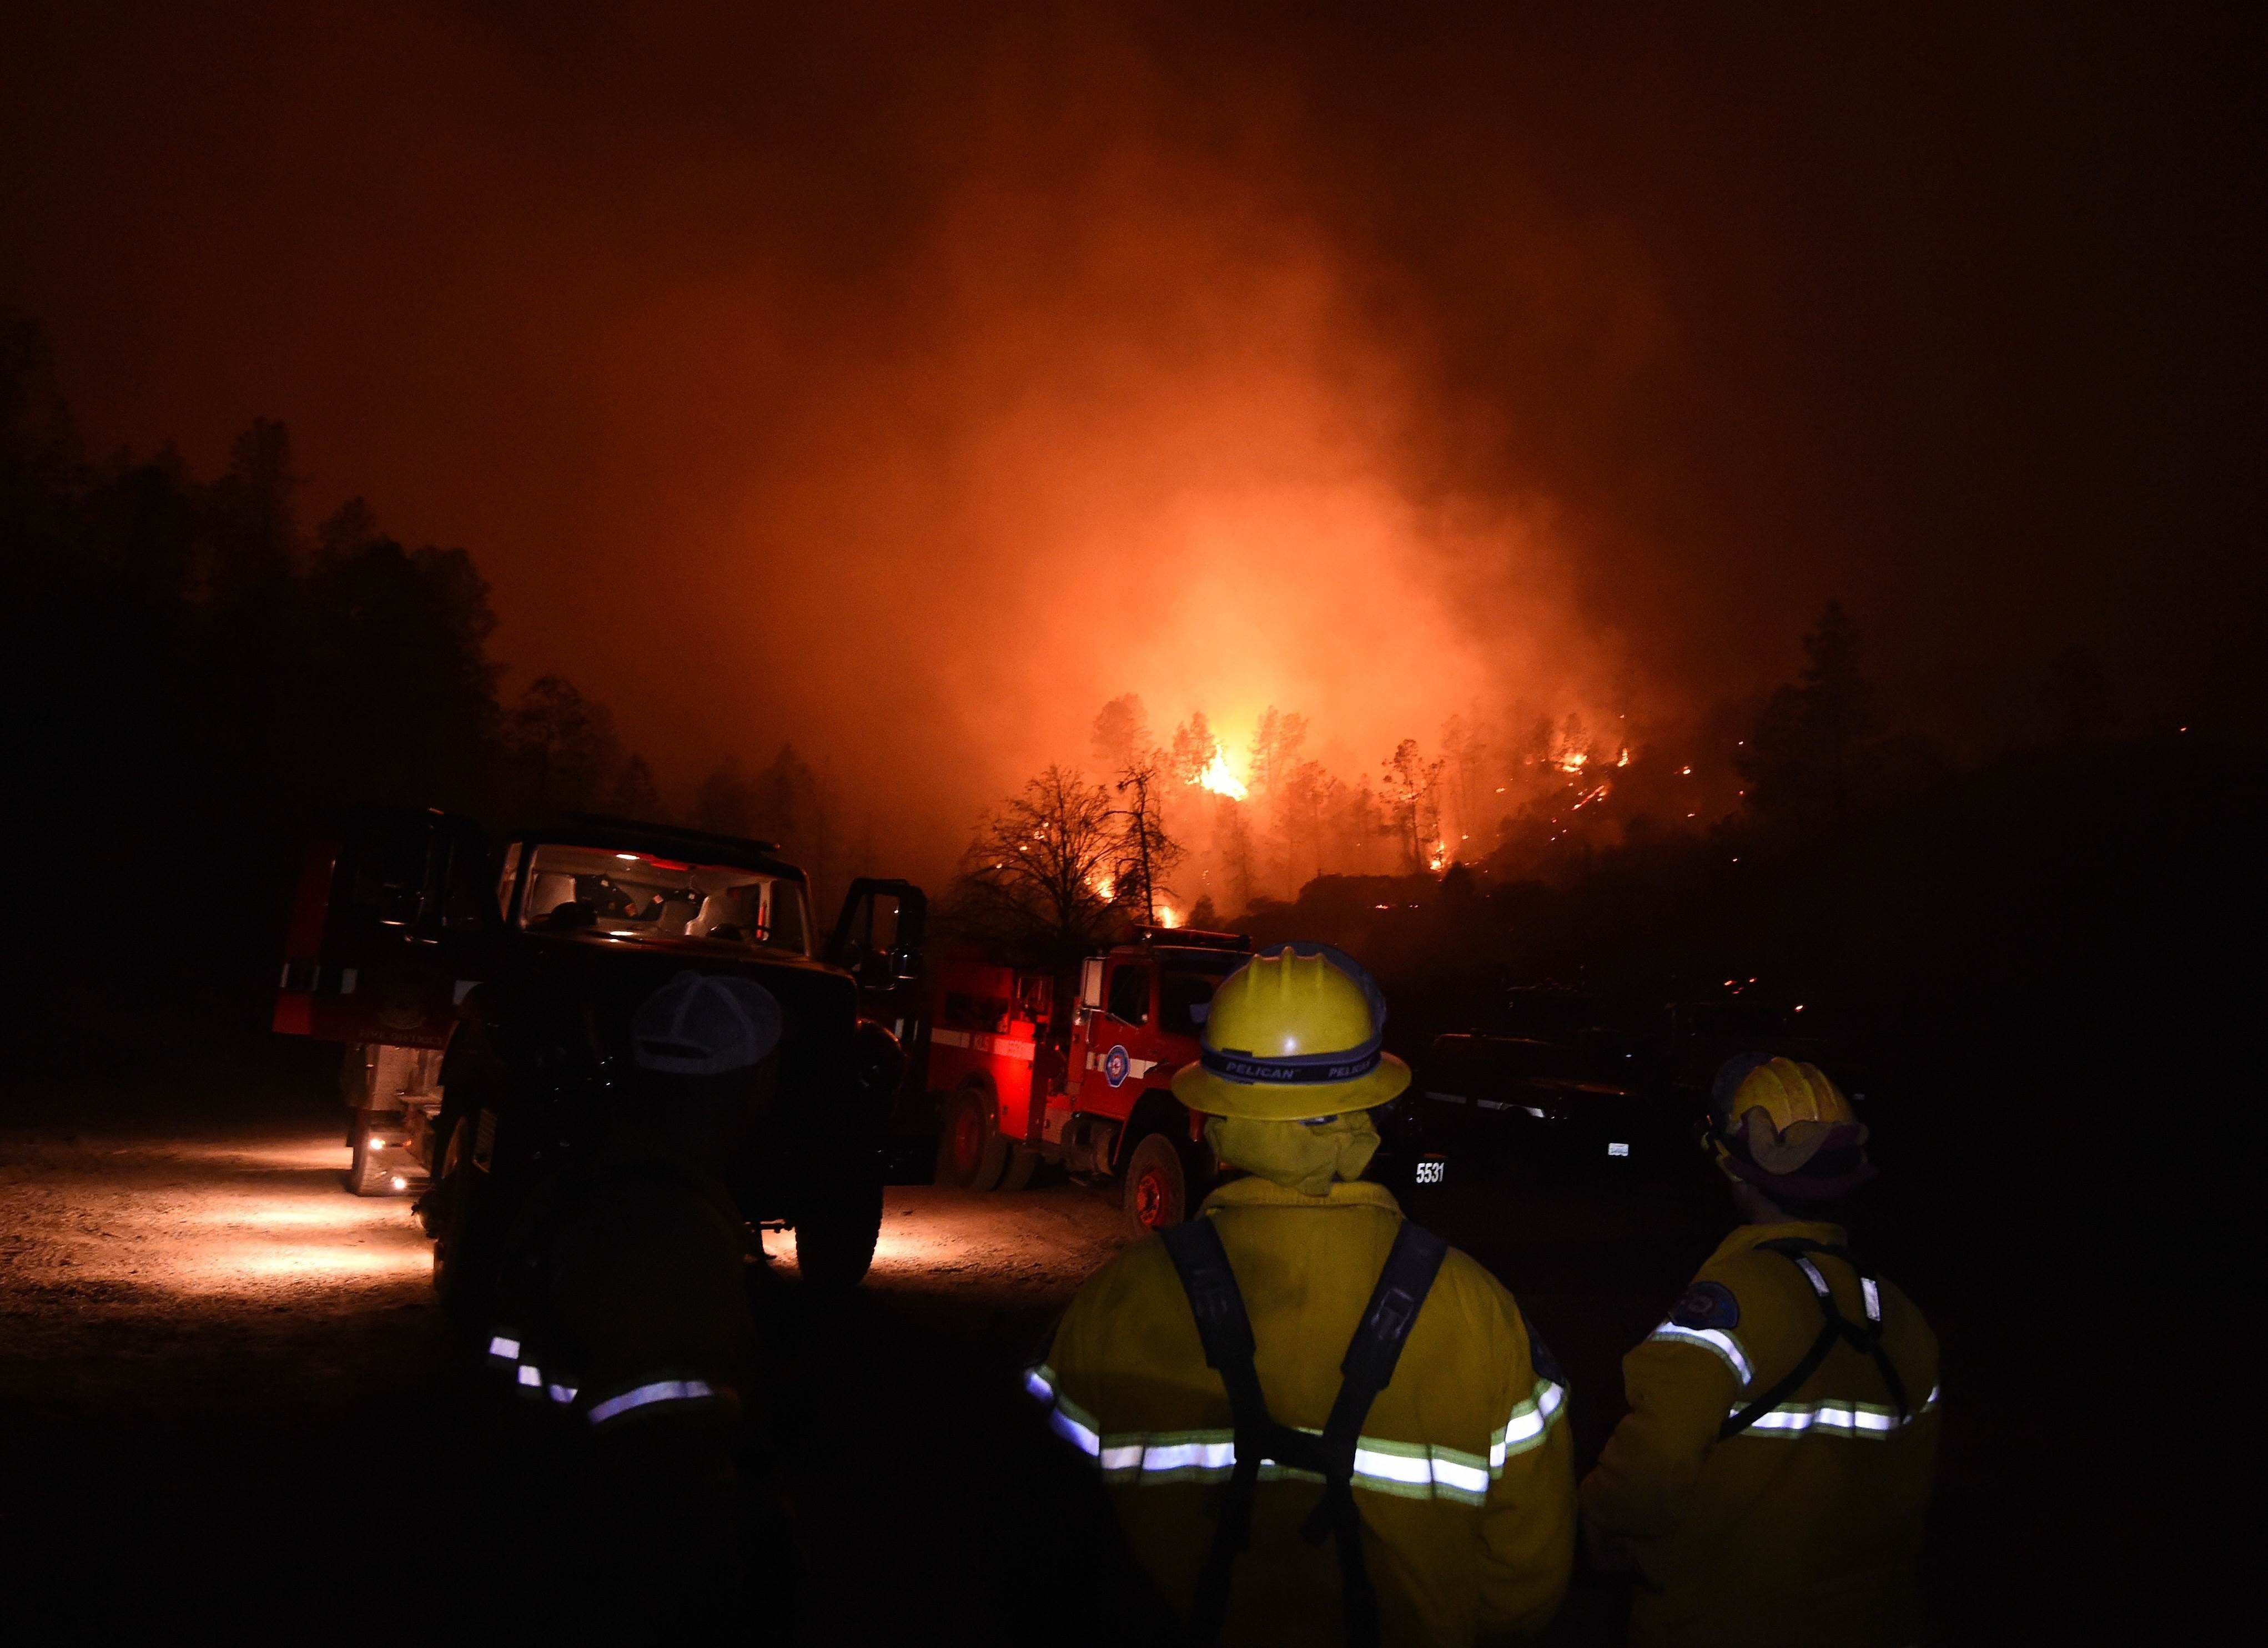fire: (1152, 680, 1305, 815)
